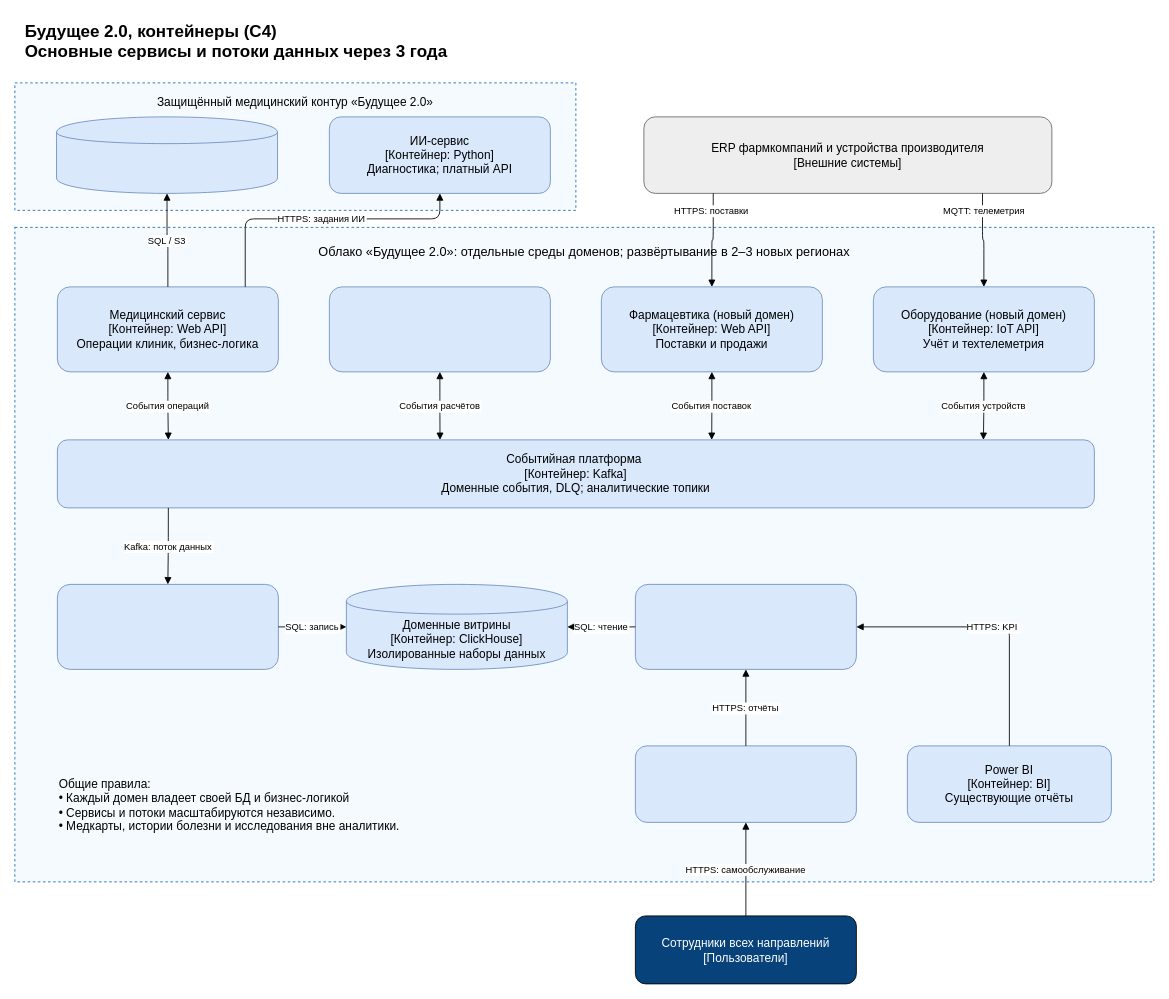
This 1169x999 diagram has some shape labels left out. The shapes that lost their labels are listed below. From the top down, each one's centre as x and y in pixels, then its label:
At point 167,154: "Медицинское хранилище [Контейнер: PostgreSQL / S3] Карты, истории, исследования".
At point 439,329: "Финтех-сервис [Контейнер: Go / Java] Счета, кредиты, расчёты".
At point 167,626: "Потоковая обработка (см.схему) [Контейнер: Flink] Проверки и расчёт показателей".
At point 745,626: "Семантический API [Контейнер: Query service] Единые KPI и права доступа".
At point 745,783: "Портал самообслуживания [Контейнер: Web] Конструктор и просмотр отчётов".
